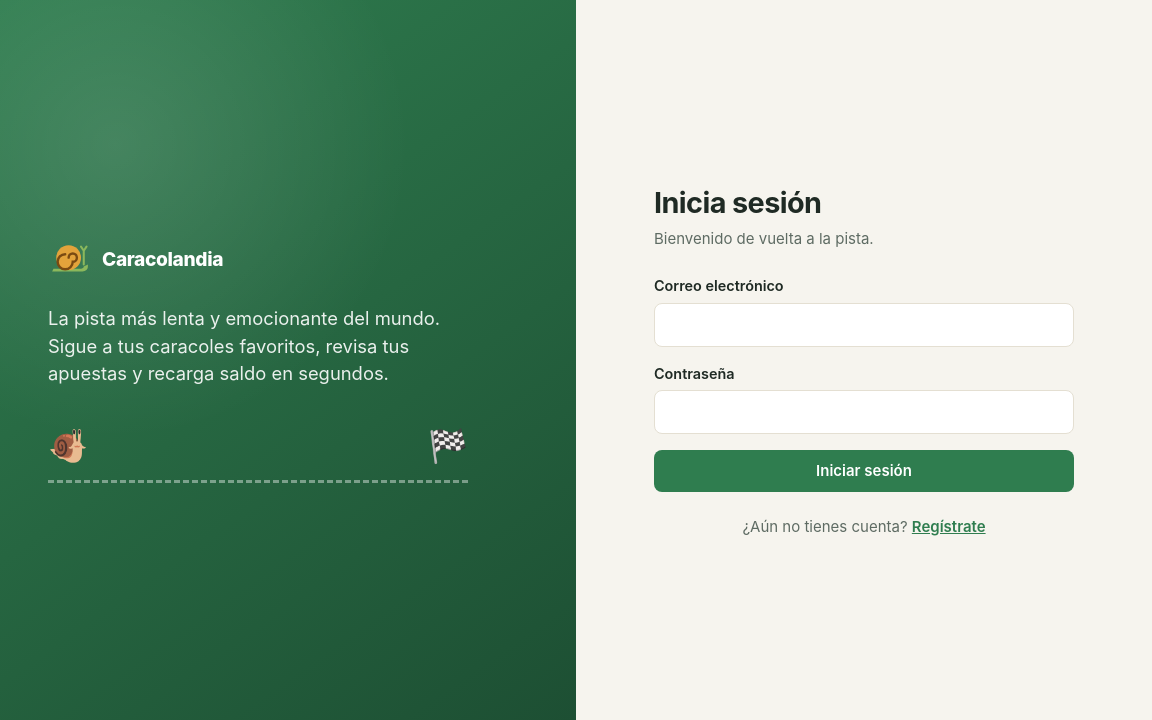
Test case: flujo de autenticación › informa credenciales incorrectas con un mensaje genérico
Type "ana@example.com" into the field labelled "Correo electrónico". click: (864, 325)
box: [654, 303, 1074, 347]
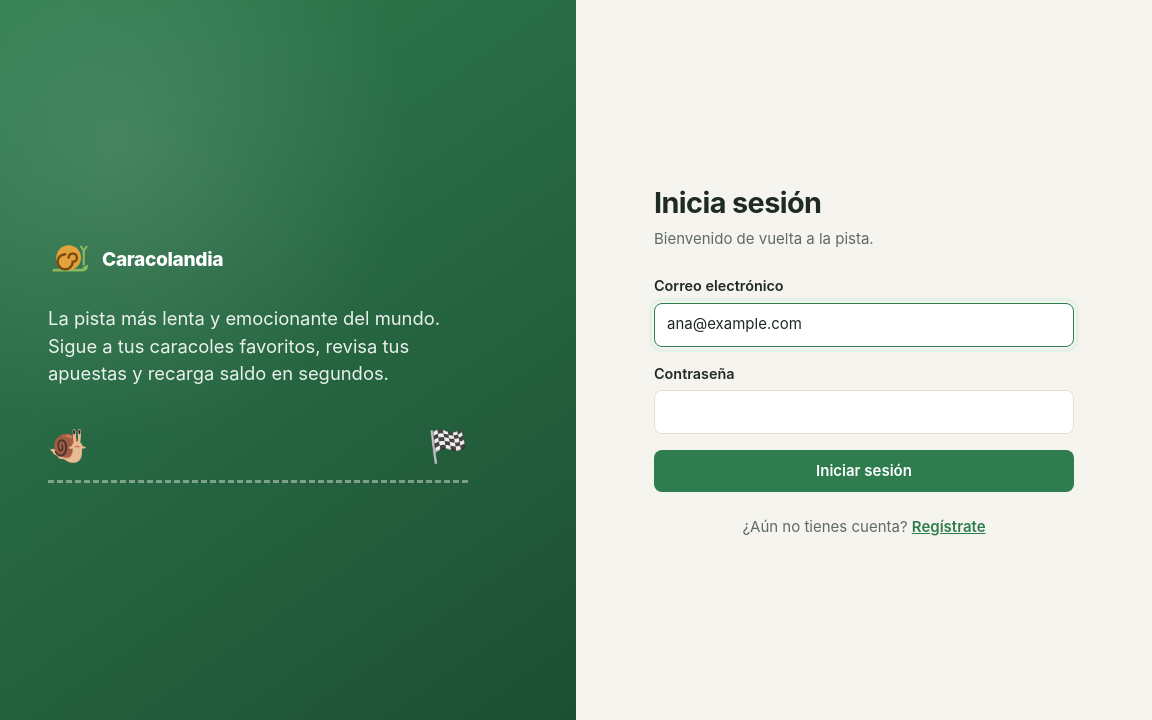
Type "Incorrecta1" into the password field labelled "Contraseña". click: (864, 412)
box: [654, 390, 1074, 434]
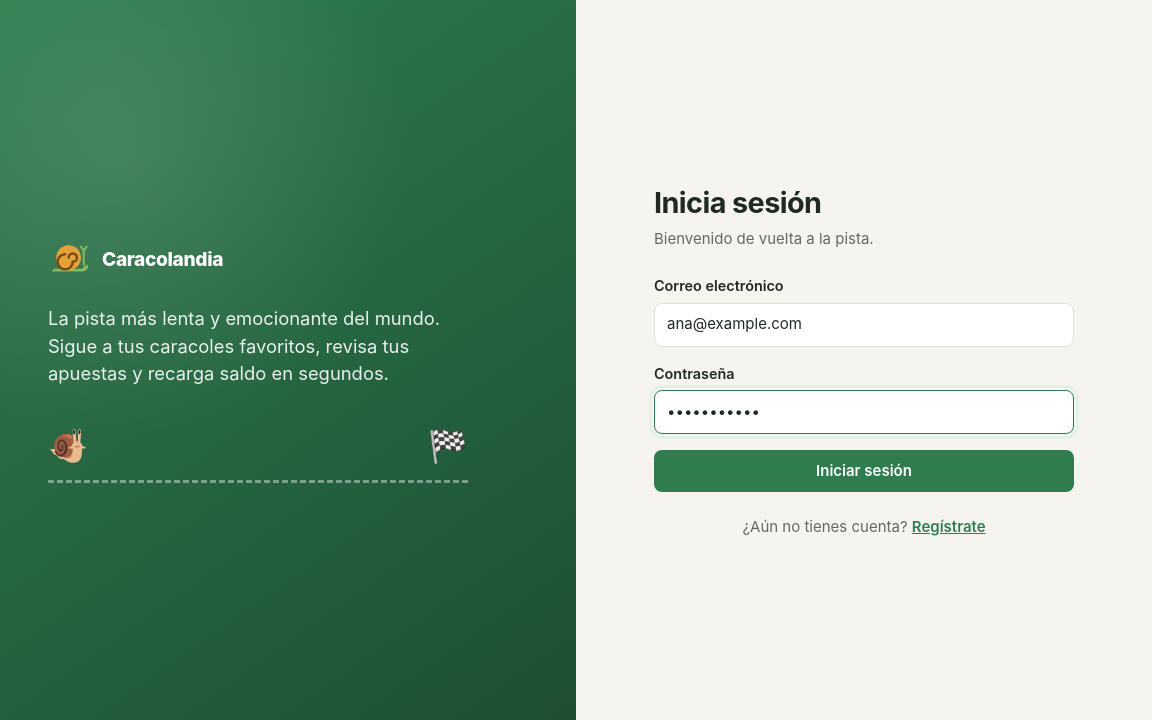
Click the button "Iniciar sesión". click: (864, 471)
box: [654, 450, 1074, 492]
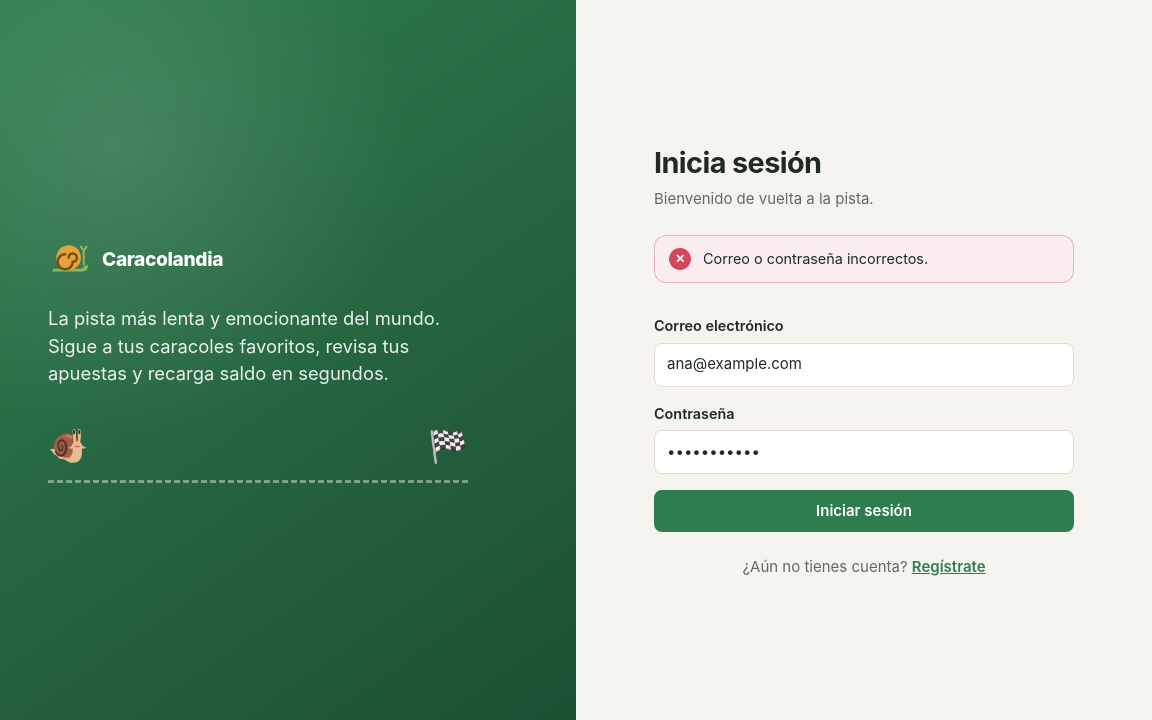
Check: the text "Correo o contraseña incorrectos." is shown, box [703, 248, 928, 270]
